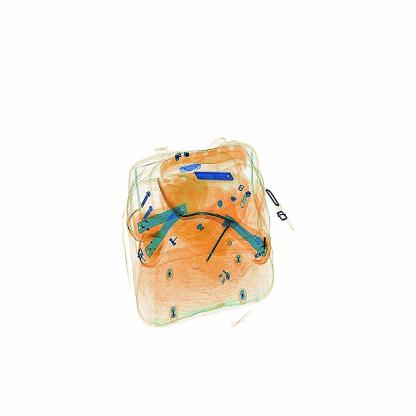pliers: (193, 166, 238, 194)
